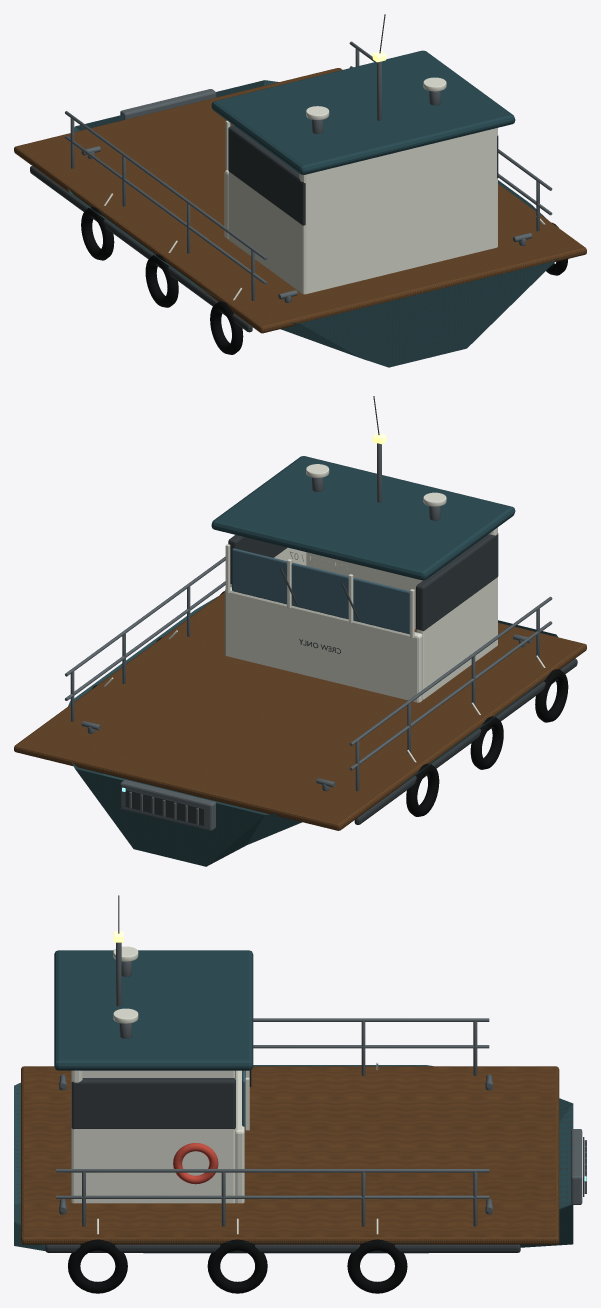
Rendered from RiversideFerry.fbx.
3 renders of one model, top to bottom at view 1: azimuth 30°, elevation 25°; view 2: azimuth 150°, elevation 25°; view 3: azimuth 270°, elevation 25°, orthographic. The views are drawn at different scales.
Parts seen in each view (by area): view 1: CinemaTimber_Surface__UnityExport, RiverMarinePaint_Surface__UnityExport, CinemaCream_Surface__UnityExport, CinemaSteel_Surface__UnityExport, CinemaDark_Surface__UnityExport, RiverRubber_Surface__UnityExport; view 2: CinemaTimber_Surface__UnityExport, RiverMarinePaint_Surface__UnityExport, CinemaCream_Surface__UnityExport, CinemaDark_Surface__UnityExport, CinemaSteel_Surface__UnityExport, CinemaGlass_Surface__UnityExport, RiverRubber_Surface__UnityExport; view 3: CinemaTimber_Surface__UnityExport, RiverMarinePaint_Surface__UnityExport, CinemaCream_Surface__UnityExport, CinemaDark_Surface__UnityExport, CinemaSteel_Surface__UnityExport, RiverRubber_Surface__UnityExport, CinemaRed_Surface__UnityExport.
Boxes of the visible parts, x1=… form: CinemaTimber_Surface__UnityExport: x1=14, y1=68, x2=586, y2=333; RiverMarinePaint_Surface__UnityExport: x1=68, y1=50, x2=558, y2=367; CinemaCream_Surface__UnityExport: x1=104, y1=77, x2=545, y2=300; CinemaSteel_Surface__UnityExport: x1=65, y1=41, x2=552, y2=302; CinemaDark_Surface__UnityExport: x1=30, y1=14, x2=498, y2=332; RiverRubber_Surface__UnityExport: x1=81, y1=207, x2=568, y2=354; CinemaTimber_Surface__UnityExport: x1=14, y1=592, x2=586, y2=830; RiverMarinePaint_Surface__UnityExport: x1=68, y1=456, x2=557, y2=866; CinemaCream_Surface__UnityExport: x1=104, y1=464, x2=545, y2=762; CinemaDark_Surface__UnityExport: x1=125, y1=396, x2=577, y2=825; CinemaSteel_Surface__UnityExport: x1=64, y1=443, x2=552, y2=830; CinemaGlass_Surface__UnityExport: x1=232, y1=548, x2=409, y2=634; RiverRubber_Surface__UnityExport: x1=92, y1=591, x2=568, y2=816; CinemaTimber_Surface__UnityExport: x1=21, y1=1066, x2=559, y2=1244; RiverMarinePaint_Surface__UnityExport: x1=14, y1=950, x2=573, y2=1253; CinemaCream_Surface__UnityExport: x1=71, y1=946, x2=378, y2=1234; CinemaDark_Surface__UnityExport: x1=45, y1=895, x2=584, y2=1252; CinemaSteel_Surface__UnityExport: x1=56, y1=942, x2=586, y2=1226; RiverRubber_Surface__UnityExport: x1=68, y1=1239, x2=407, y2=1293; CinemaRed_Surface__UnityExport: x1=173, y1=1143, x2=218, y2=1184.
Bounding box in the file's own units: 6 × 5.25 × 8.2.
